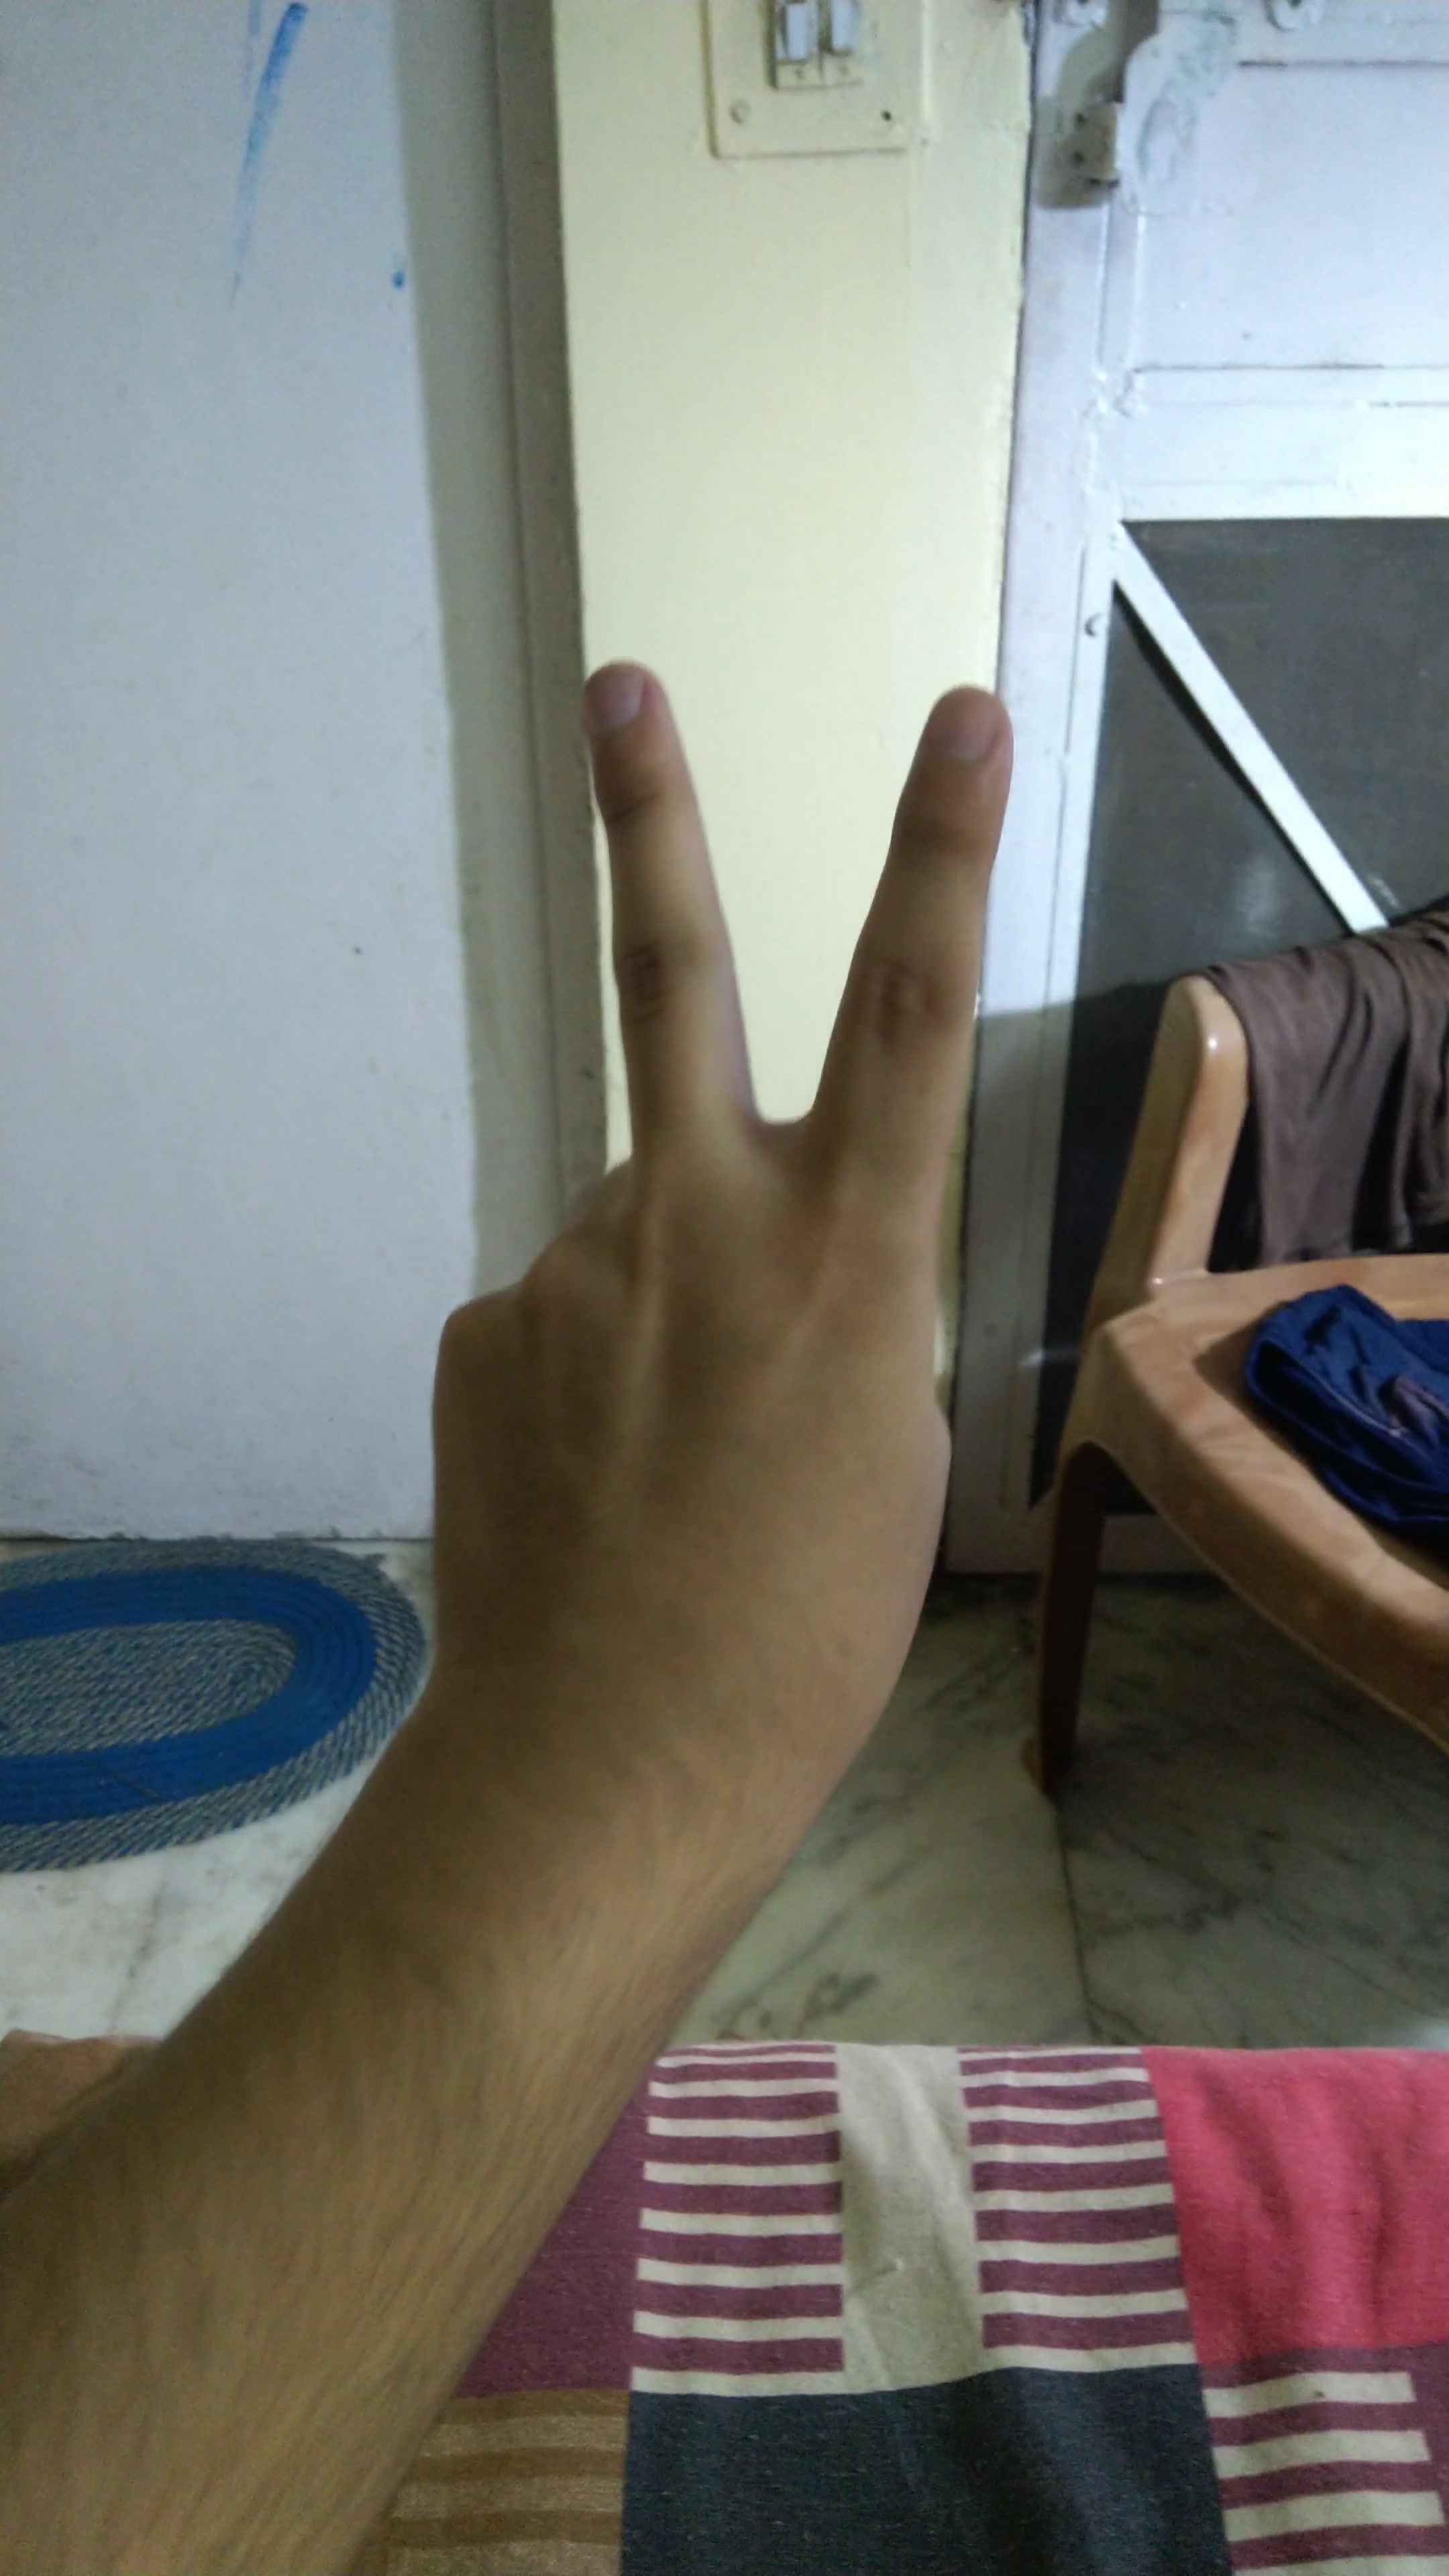hand: (258, 648, 1131, 1858)
